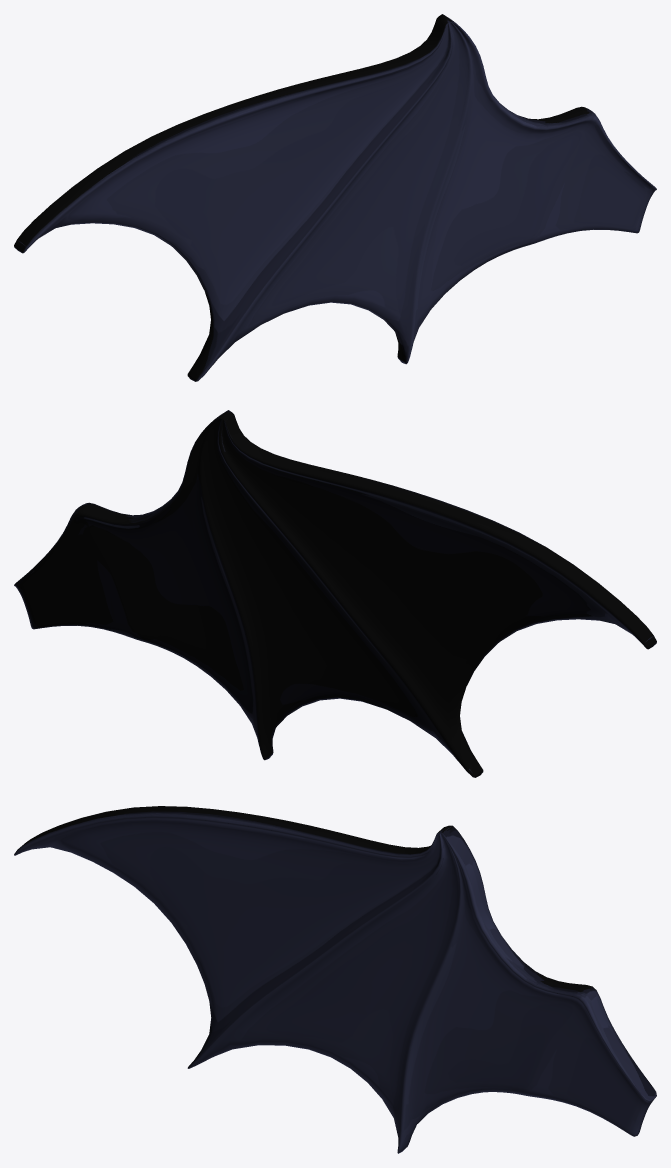
Rendered from YarasaKanadi.fbx.
The picture shows the model from 3 angles, top to bottom: view 1: azimuth 30°, elevation 25°; view 2: azimuth 150°, elevation 25°; view 3: azimuth 330°, elevation 25°; orthographic projection.
Visible parts, largest first — view 1: yarasa_kanadı; view 2: yarasa_kanadı; view 3: yarasa_kanadı.
Part boxes in pixels (<box>): yarasa_kanadı: <box>14,14,656,381</box>; yarasa_kanadı: <box>14,410,656,777</box>; yarasa_kanadı: <box>14,806,656,1153</box>.
Size of the model in its own units: 55.54 by 27.97 by 2.04.
1 material, 1 textured.
